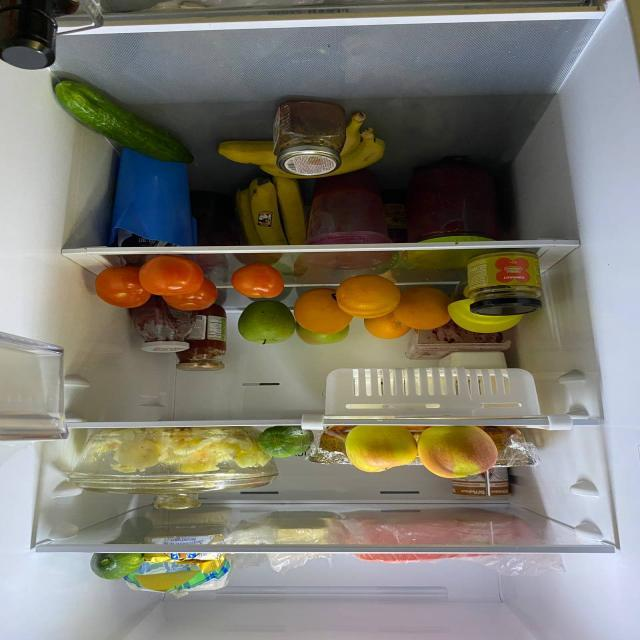Apple: (426, 424, 494, 477), (349, 424, 419, 472), (240, 302, 292, 346), (297, 328, 347, 345)
Banana: (226, 118, 382, 173), (235, 173, 302, 250)
Cucumber: (52, 79, 196, 164), (260, 428, 314, 458), (90, 551, 144, 580)
Orange: (336, 279, 404, 318), (396, 289, 452, 331), (295, 295, 349, 332), (371, 317, 409, 340)
Tomato: (138, 259, 204, 297), (234, 265, 288, 302), (96, 270, 148, 308), (167, 283, 217, 311)
